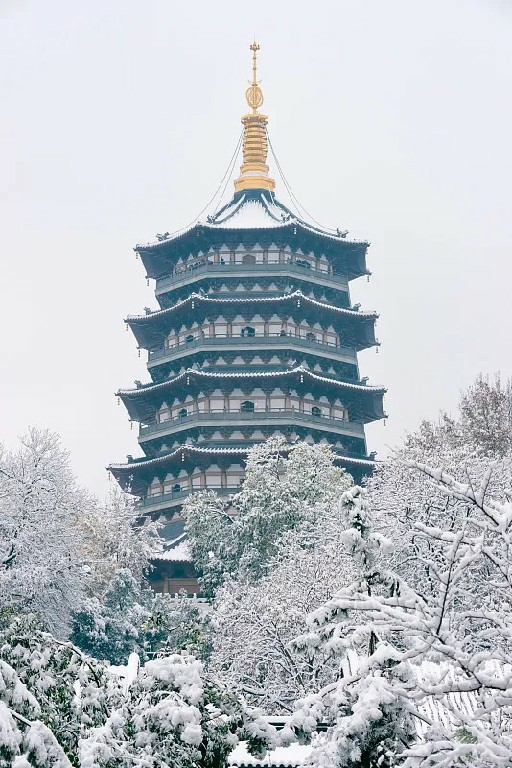Leifeng: (104, 32, 390, 597)
